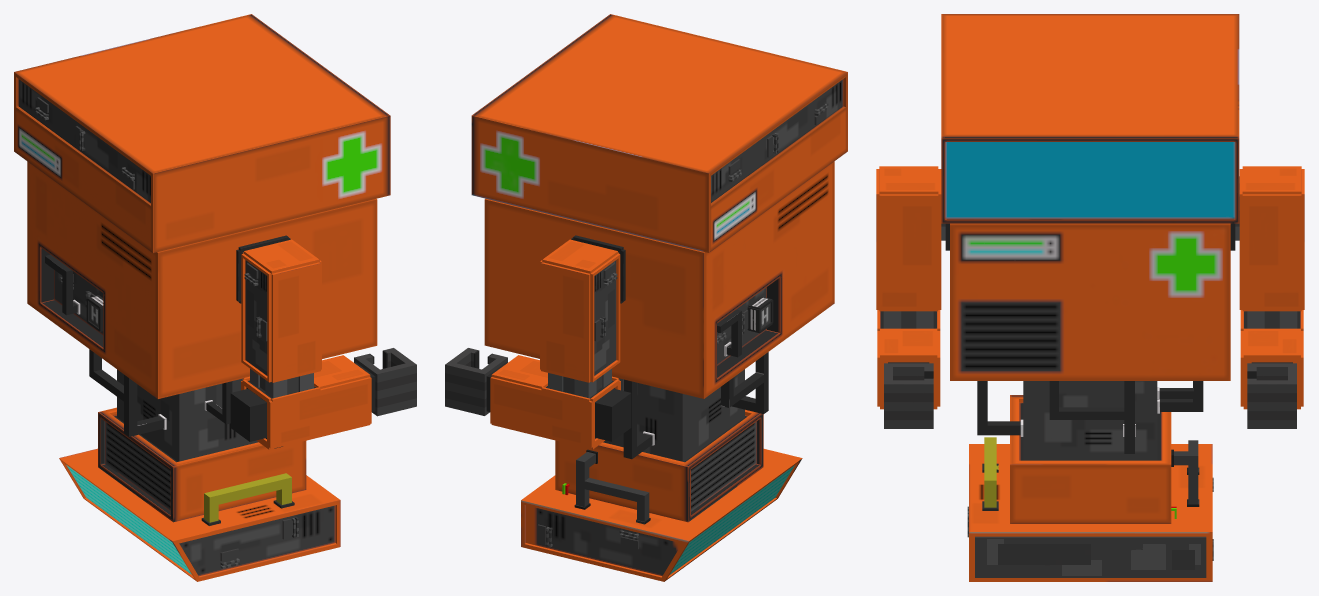
File: RED_ROBOT_MEDICAL.fbx
3 renders of one model, left to right at view 1: azimuth 30°, elevation 25°; view 2: azimuth 150°, elevation 25°; view 3: azimuth 270°, elevation 25°, orthographic. The views are drawn at different scales.
Visible parts, largest first — view 1: Куб.182, Куб.181, Куб.179, Куб.012, Куб.014, Куб.180, Куб.016, Куб.168, Куб.135, Куб.015, Куб.013, Куб.156 (+3 smaller); view 2: Куб.182, Куб.181, Куб.179, Куб.145, Куб.143, Куб.180, Куб.140, Куб.169, Куб.142, Куб.135, Куб.175, Куб.144 (+3 smaller); view 3: Куб.182, Куб.181, Куб.179, Куб.137, Куб.145, Куб.012, Куб.180, Куб.140, Куб.016, Куб.143, Куб.014, Куб.177 (+6 smaller).
Boxes of the visible parts, x1,y1,x2,y2 form: Куб.182: (14,14,390,252); Куб.181: (27,161,377,398); Куб.179: (59,407,340,581); Куб.012: (241,239,321,382); Куб.014: (241,355,371,449); Куб.180: (117,369,258,461); Куб.016: (354,348,416,416); Куб.168: (201,473,294,525); Куб.135: (89,349,166,436); Куб.015: (230,362,375,441); Куб.013: (250,369,313,398); Куб.156: (45,254,80,315); Куб.182: (471,14,847,252); Куб.181: (484,161,834,398); Куб.179: (521,409,802,581); Куб.145: (540,239,620,382); Куб.143: (490,355,620,449); Куб.180: (603,369,744,461); Куб.140: (445,348,507,415); Куб.169: (574,449,650,524); Куб.142: (486,362,631,441); Куб.135: (721,352,768,413); Куб.175: (623,379,654,459); Куб.144: (548,368,611,398); Куб.182: (941,14,1239,223); Куб.181: (950,223,1230,380); Куб.179: (969,395,1212,581); Куб.137: (975,536,1206,577); Куб.145: (1239,166,1304,311); Куб.012: (876,166,941,311); Куб.180: (1023,381,1157,460); Куб.140: (1247,363,1296,428); Куб.016: (884,363,933,428); Куб.143: (1240,310,1303,409); Куб.014: (877,310,940,409); Куб.177: (1049,381,1135,453).
Size of the model in its own units: 317 by 549 by 460.
